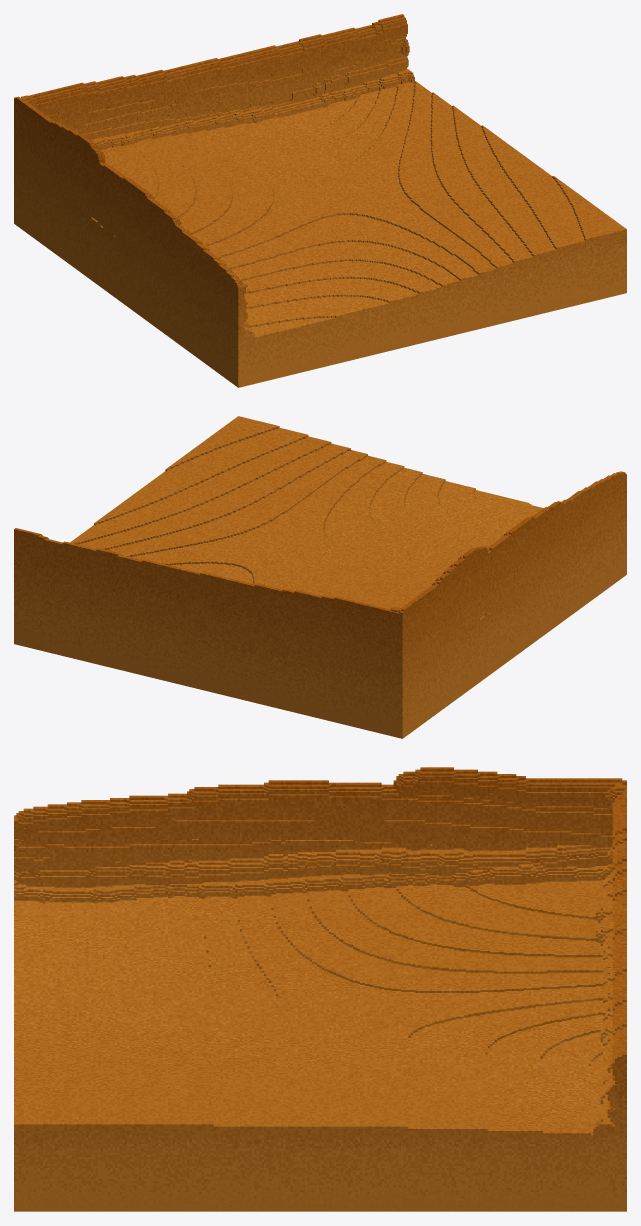
Rendered from Marte-3.obj.
The picture shows the model from 3 angles, top to bottom: view 1: azimuth 30°, elevation 25°; view 2: azimuth 150°, elevation 25°; view 3: azimuth 270°, elevation 25°; orthographic projection. The views are drawn at different scales.
Size of the model in its own units: 25.5 by 8.5 by 25.5.
Materials: 1 (1 with a texture image).
